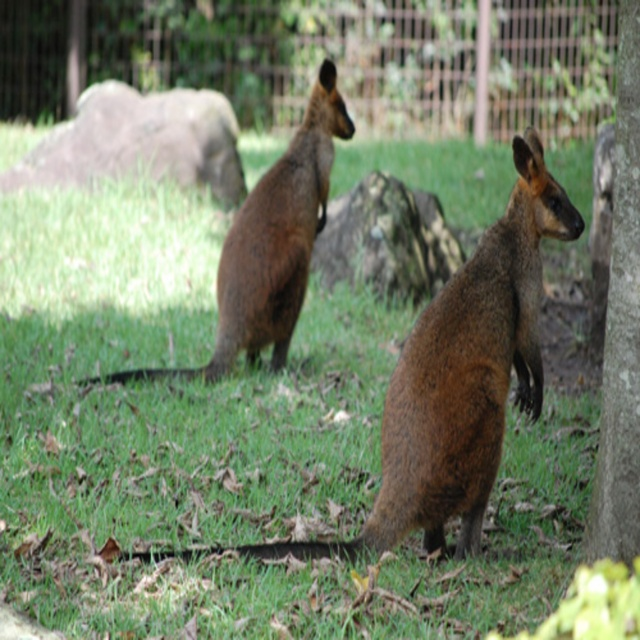Kangaroo: (110, 126, 585, 565), (75, 58, 356, 387)
